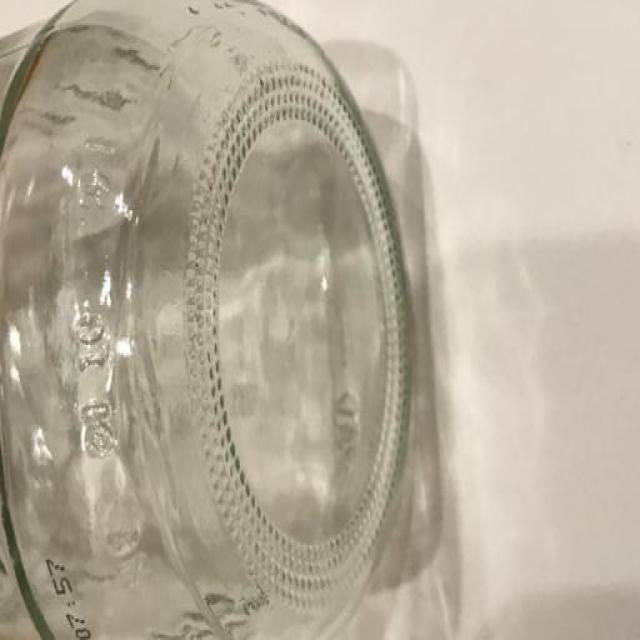Waste: (0, 2, 412, 638)
